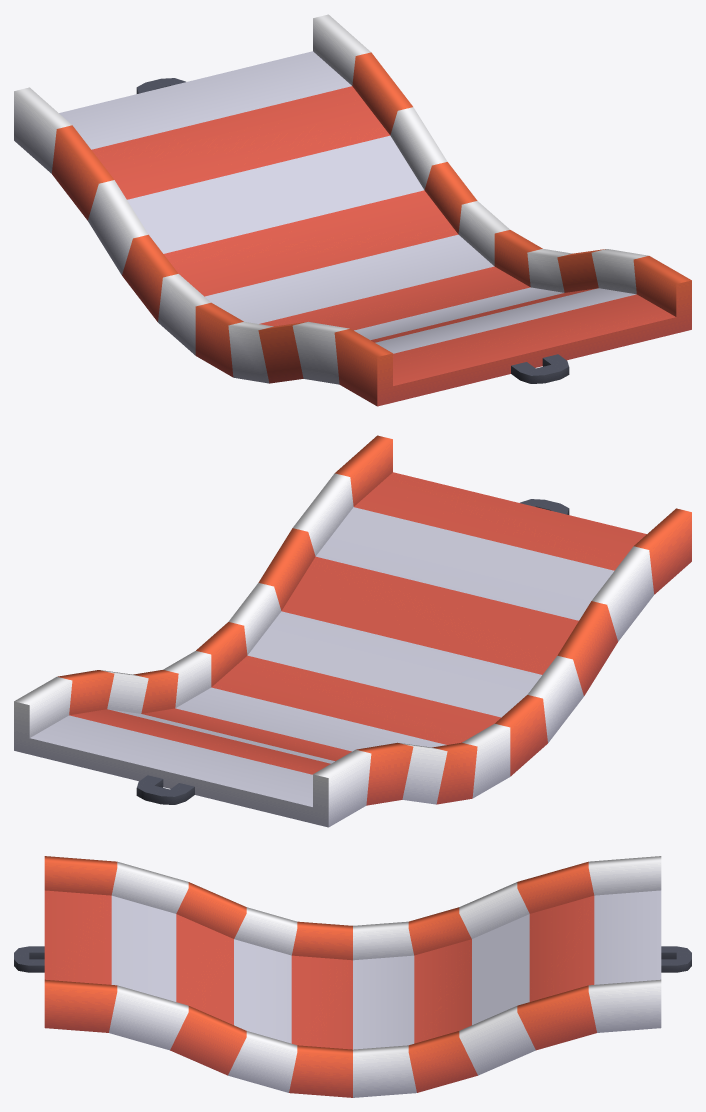
File: track-striped-wide-straight-bump-down.glb
3 views of the same model, one above another, from view 1: azimuth 30°, elevation 25°; view 2: azimuth 150°, elevation 25°; view 3: azimuth 270°, elevation 25° (orthographic). The views are drawn at different scales.
Visible parts, largest first — view 1: track-striped-wide-straight-bump-down; view 2: track-striped-wide-straight-bump-down; view 3: track-striped-wide-straight-bump-down.
Part boxes in pixels (x1=…): track-striped-wide-straight-bump-down: x1=14, y1=14, x2=691, y2=406; track-striped-wide-straight-bump-down: x1=14, y1=435, x2=691, y2=827; track-striped-wide-straight-bump-down: x1=14, y1=856, x2=691, y2=1097.
Bounding box in the file's own units: 6 × 2.4 × 13.2.
1 material, 1 textured.
